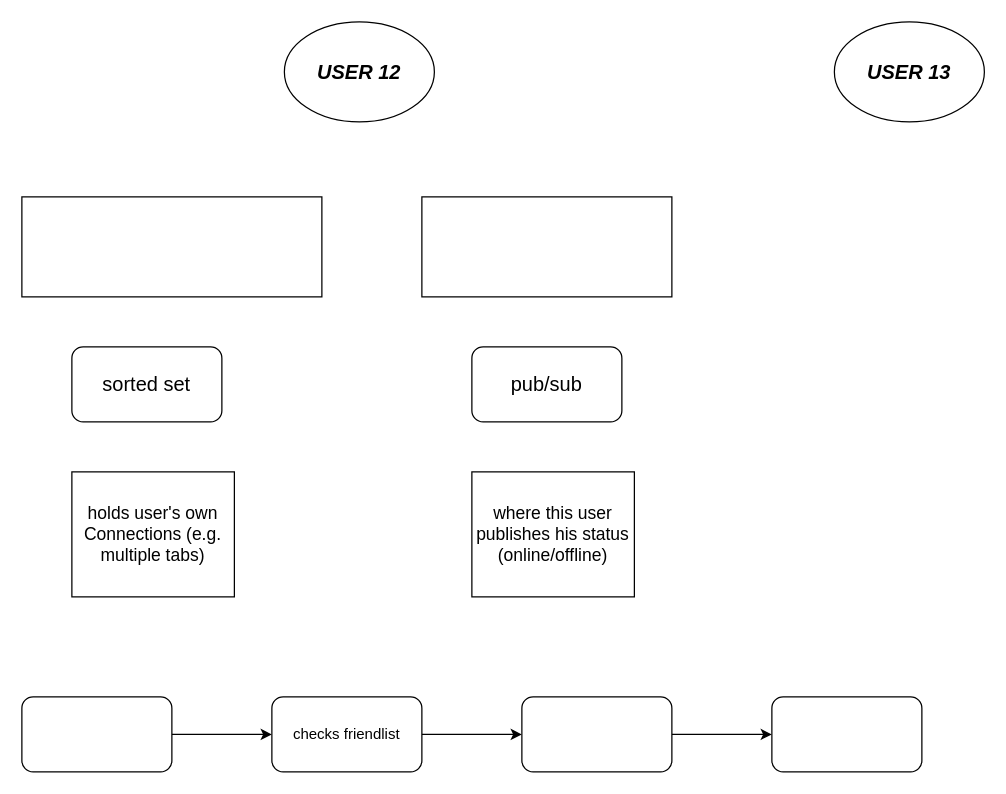
Image size: 1006x794. Some labels were removed from this diagram. Here are the shapes that lost their labels. From the top down, the centre of each, then its label:
point 171,246: presence:user:12:conns
point 546,246: presence:user:12
point 96,734: User logs in
point 596,734: presence:user:<friend_ID> (subscribes to all)
